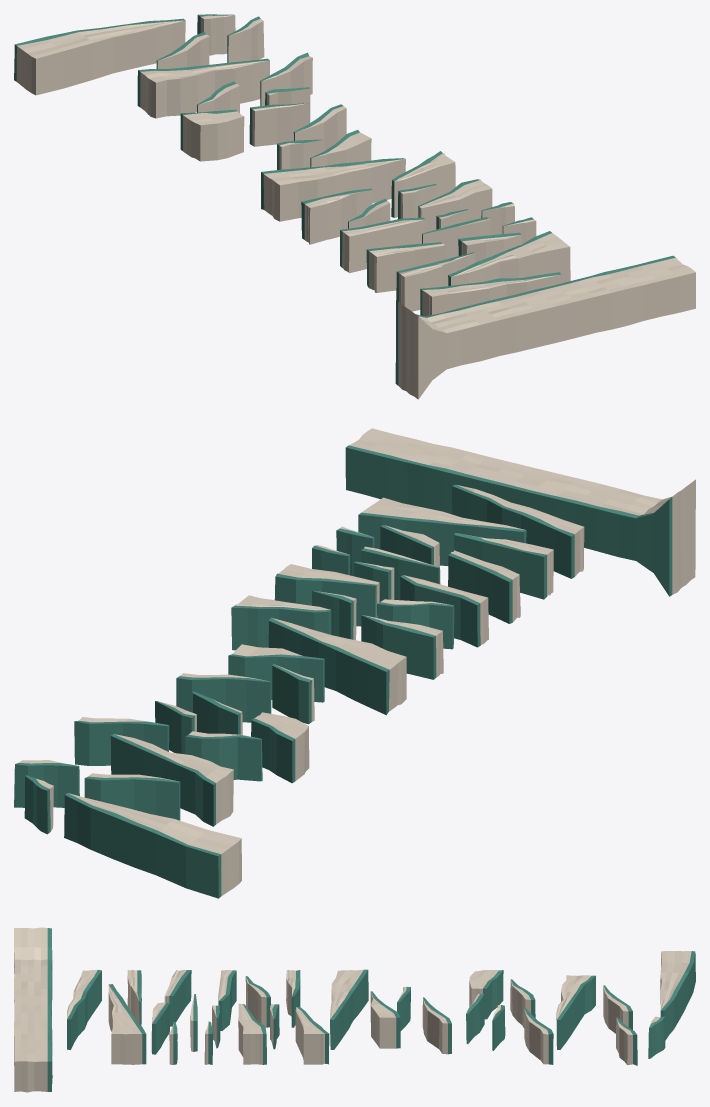
The model's file is contra_level_5_platforms.fbx.
3 renders of one model, top to bottom at view 1: azimuth 30°, elevation 25°; view 2: azimuth 150°, elevation 25°; view 3: azimuth 270°, elevation 25°, orthographic. The views are drawn at different scales.
Visible parts, largest first — view 1: Ground, Ground.029, Ground.016, Ground.025, Ground.002, Ground.021, Ground.001, Ground.010, Ground.014, Ground.005, Ground.020, Ground.003 (+16 smaller); view 2: Ground, Ground.029, Ground.016, Ground.025, Ground.001, Ground.002, Ground.003, Ground.026, Ground.014, Ground.011, Ground.015, Ground.005 (+18 smaller); view 3: Ground, Ground.029, Ground.002, Ground.016, Ground.025, Ground.001, Ground.015, Ground.011, Ground.017, Ground.021, Ground.019, Ground.024 (+18 smaller).
Boxes of the visible parts, x1,y1,x2,y2 form: Ground: (395, 255, 695, 399); Ground.029: (14, 18, 185, 95); Ground.016: (261, 158, 405, 221); Ground.025: (137, 58, 269, 118); Ground.002: (448, 231, 570, 285); Ground.021: (180, 109, 244, 161); Ground.001: (420, 272, 561, 316); Ground.010: (340, 217, 425, 273); Ground.014: (301, 188, 372, 244); Ground.005: (366, 242, 446, 292); Ground.020: (249, 103, 309, 146); Ground.003: (396, 252, 475, 311); Ground: (345, 428, 695, 596); Ground.029: (64, 793, 241, 898); Ground.016: (268, 617, 406, 715); Ground.025: (110, 734, 233, 826); Ground.001: (452, 484, 584, 578); Ground.002: (358, 497, 526, 565); Ground.003: (454, 533, 553, 599); Ground.026: (84, 773, 180, 820); Ground.014: (361, 615, 443, 679); Ground.011: (274, 564, 379, 626); Ground.015: (231, 595, 331, 650); Ground.005: (448, 550, 520, 623); Ground: (14, 927, 52, 1092); Ground.029: (660, 951, 695, 1040); Ground.002: (108, 984, 146, 1064); Ground.016: (330, 969, 368, 1049); Ground.025: (556, 975, 595, 1049); Ground.001: (67, 969, 101, 1049); Ground.015: (295, 1007, 329, 1064); Ground.011: (238, 1003, 266, 1064); Ground.017: (370, 991, 400, 1048); Ground.021: (469, 970, 503, 1019); Ground.019: (422, 997, 451, 1054); Ground.024: (524, 1008, 553, 1064).
Bounding box in the file's own units: 6413 × 1885 × 16241.
